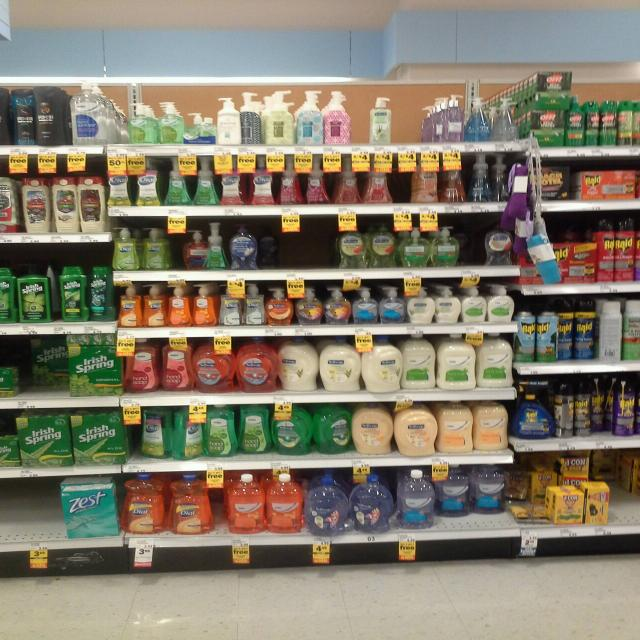unorganised: (313, 399, 355, 454), (29, 333, 71, 386), (436, 464, 473, 521), (138, 406, 173, 457), (173, 403, 205, 458), (592, 447, 633, 488), (476, 467, 508, 512), (183, 229, 210, 269), (592, 380, 612, 433), (509, 499, 552, 523)
